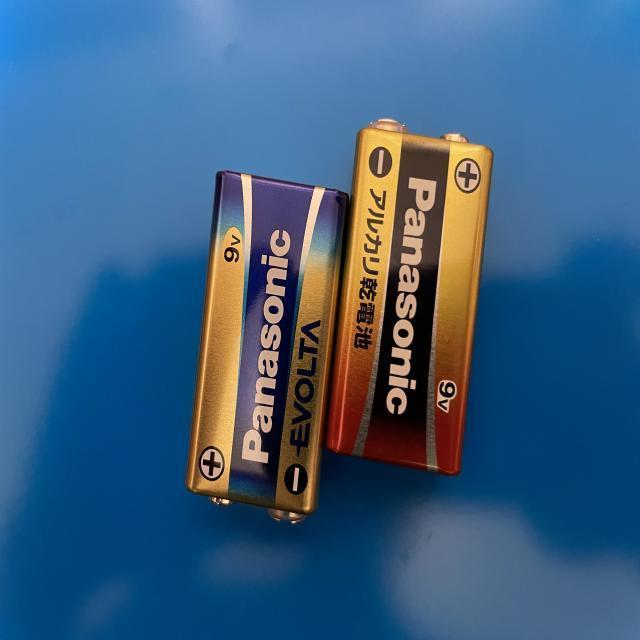9V: (325, 117, 495, 474), (184, 168, 349, 523)
